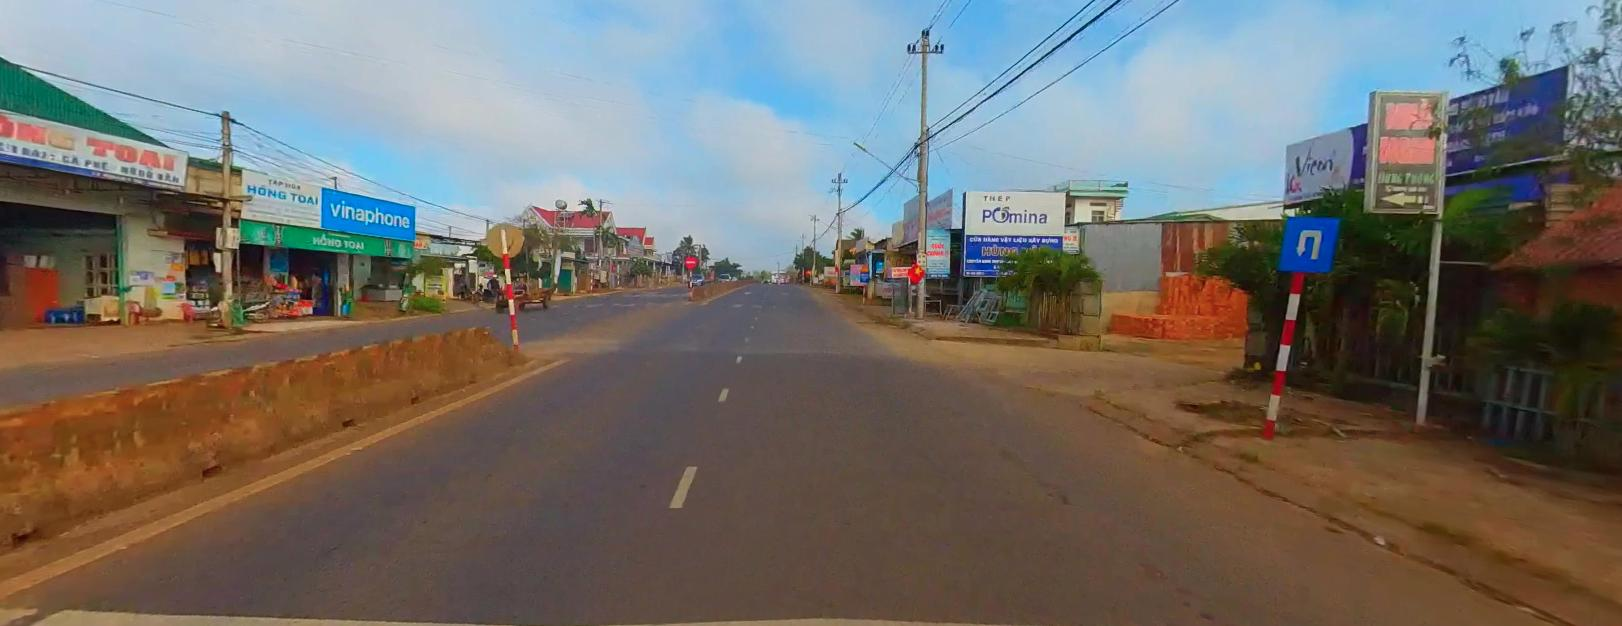Cam nguoc chieu: (684, 254, 697, 267)
Nguy hiem: (860, 263, 868, 271)
